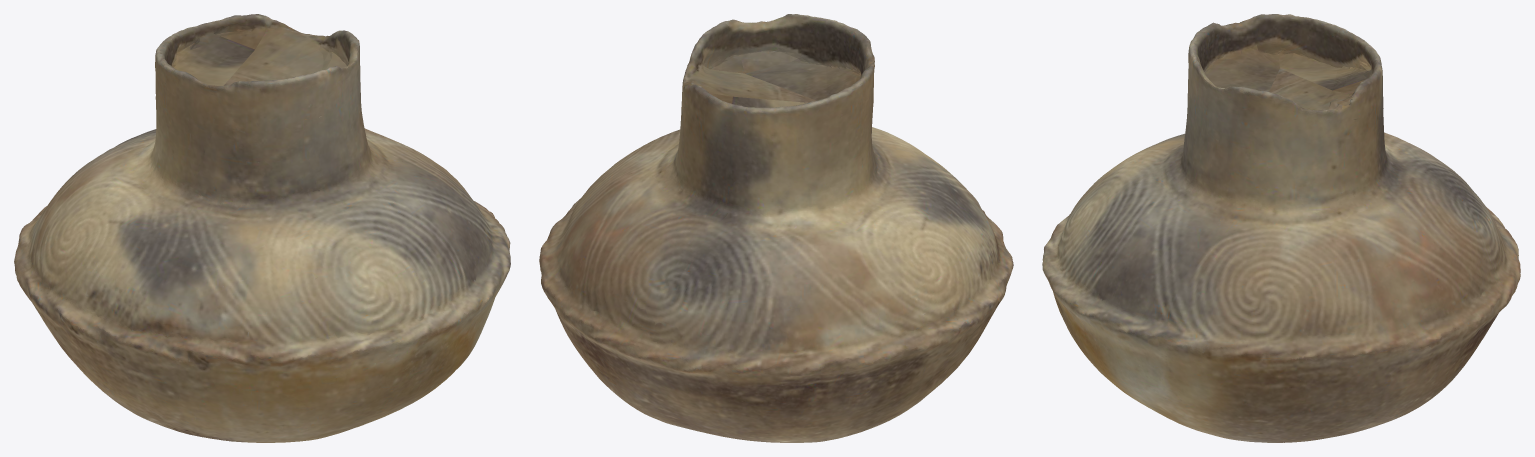
The model's file is Ark_HM_11_HI.glb.
3 views of the same model, side by side, from view 1: azimuth 30°, elevation 25°; view 2: azimuth 150°, elevation 25°; view 3: azimuth 270°, elevation 25° (orthographic). The views are drawn at different scales.
Size of the model in its own units: 0.4928 by 0.411 by 0.4981.
Materials: 1 (1 with a texture image).
